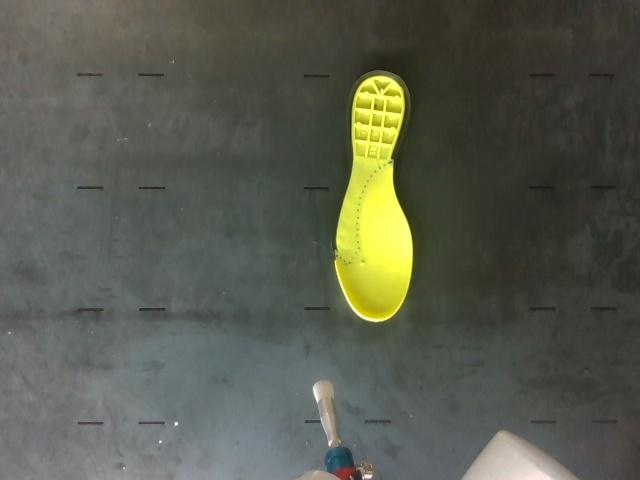shoes: (334, 72, 412, 319)
